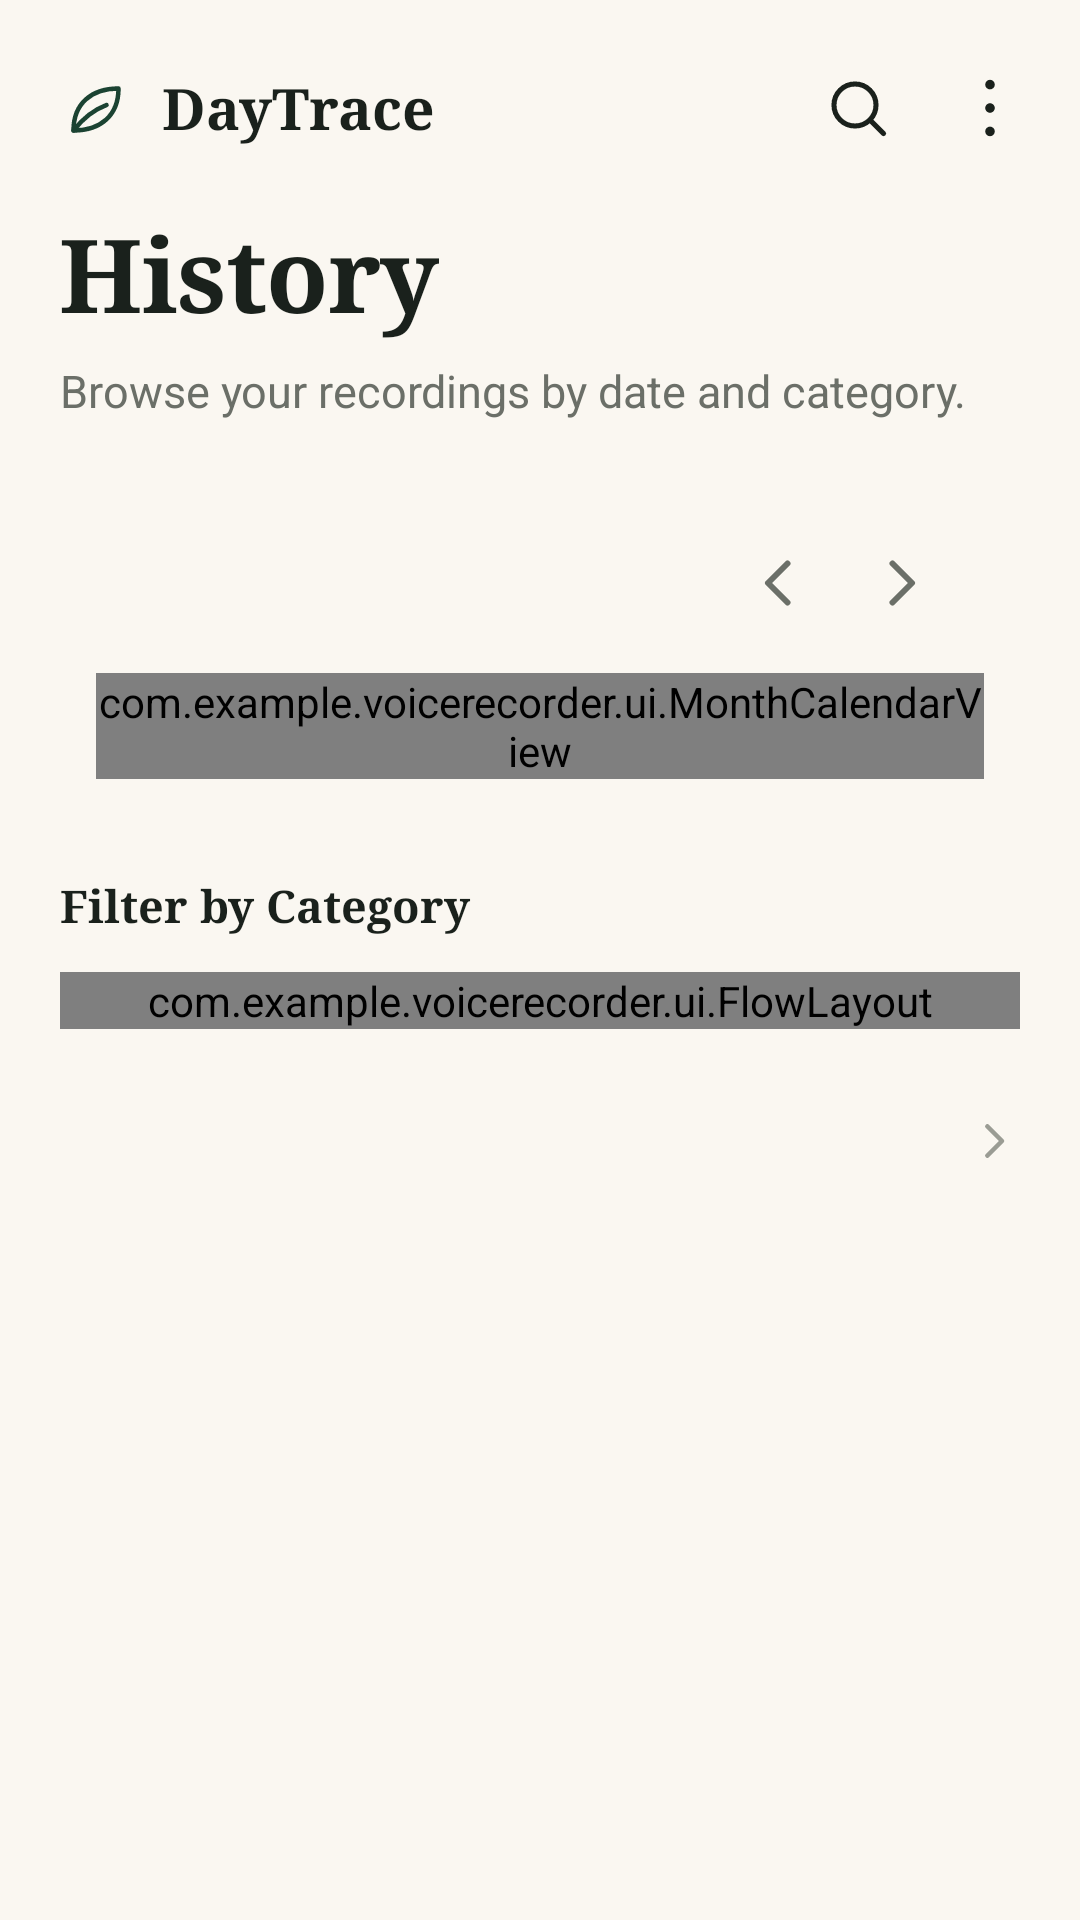

Icons on this 1080x1920 Android screen, each with the point to tap as (x,y):
chevron right: (994,1141)
leaf: (96,109)
More options: (990,108)
Next month: (902,583)
Previous month: (778,583)
Search: (859,109)
